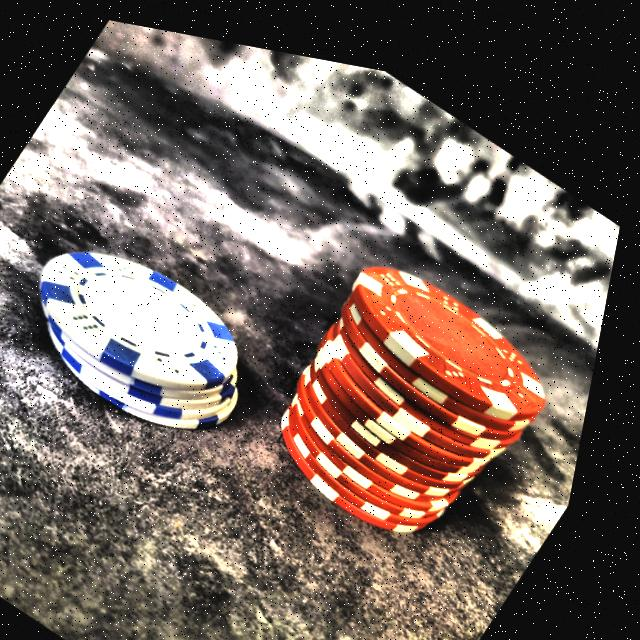Chip: (242, 196, 612, 570), (0, 170, 323, 482)
